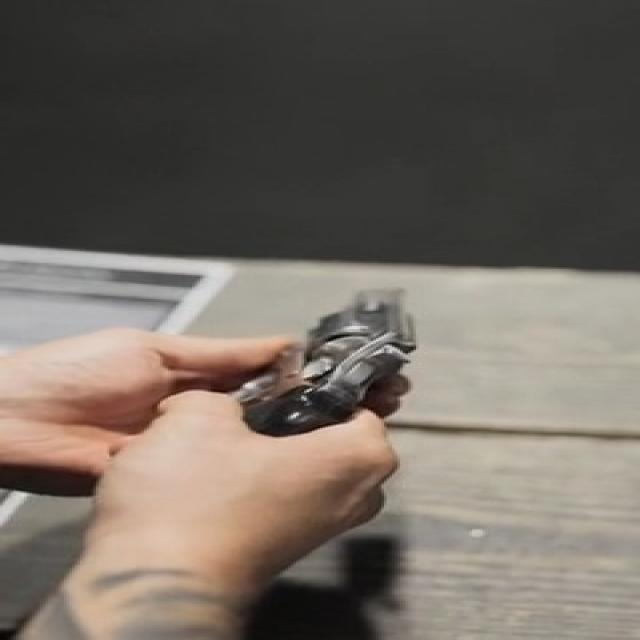Gun_Holder: (152, 250, 560, 466)
